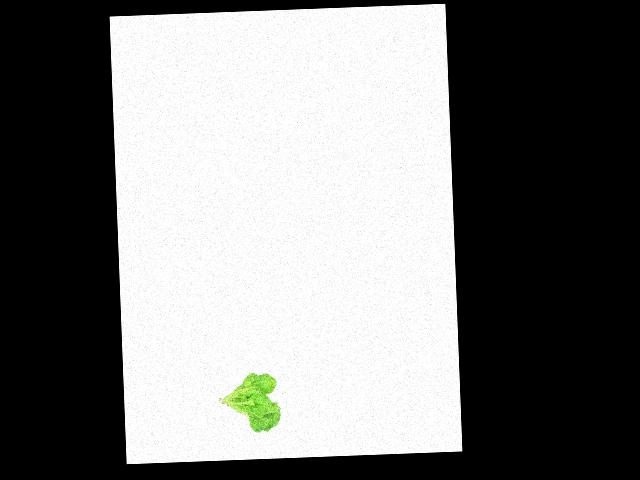lettuce: (216, 369, 285, 437)
